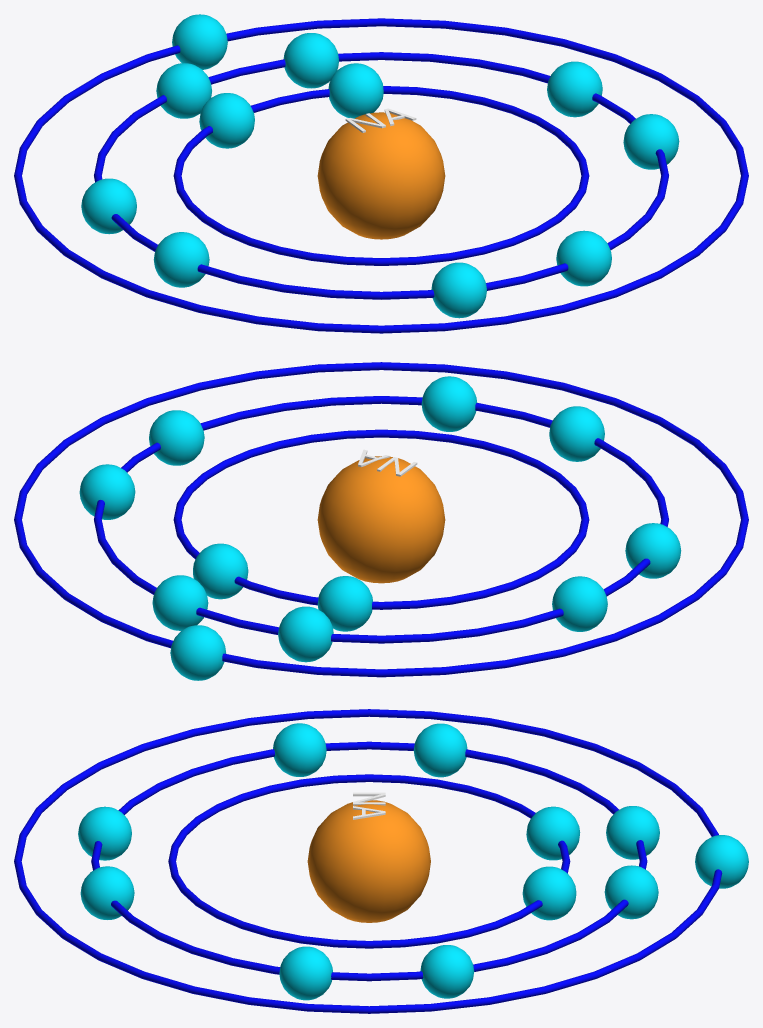
3 renders of one model, top to bottom at view 1: azimuth 30°, elevation 25°; view 2: azimuth 150°, elevation 25°; view 3: azimuth 270°, elevation 25°, orthographic. The views are drawn at different scales.
Visible parts, largest first — view 1: NA, Orbit, Nitron; view 2: NA, Orbit, Nitron; view 3: NA, Orbit, Nitron.
Boxes of the visible parts, x1=… form: NA: x1=81, y1=33, x2=679, y2=318; Orbit: x1=14, y1=18, x2=748, y2=333; Nitron: x1=172, y1=14, x2=227, y2=69; NA: x1=79, y1=376, x2=681, y2=662; Orbit: x1=14, y1=362, x2=748, y2=677; Nitron: x1=170, y1=625, x2=226, y2=680; NA: x1=78, y1=723, x2=659, y2=1000; Orbit: x1=14, y1=709, x2=722, y2=1013; Nitron: x1=695, y1=835, x2=748, y2=888.
Bounding box in the file's own units: 184 × 32 × 191.
